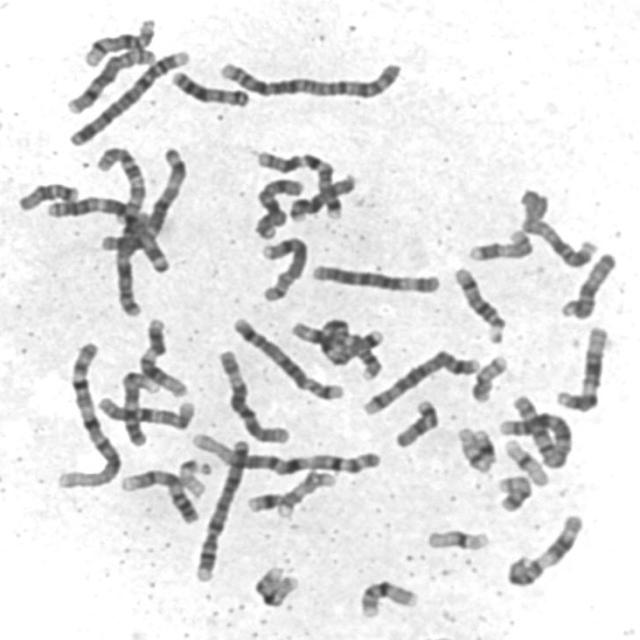A1: (53, 337, 125, 491), (185, 428, 385, 478)
A2: (212, 51, 408, 101), (500, 392, 576, 471)
A3: (95, 140, 191, 258), (42, 190, 173, 275)
B4: (65, 43, 192, 149), (190, 431, 252, 583)
B5: (228, 312, 346, 403), (358, 343, 482, 418)
C10: (91, 140, 150, 234), (92, 389, 198, 431)
C11: (502, 508, 587, 589), (289, 320, 384, 384)
C12: (552, 320, 614, 413), (134, 312, 192, 399)
C6: (212, 343, 294, 445), (308, 258, 445, 296)
C7: (252, 144, 347, 220), (318, 316, 383, 367)
C8: (63, 42, 159, 116), (255, 230, 312, 304)
C9: (117, 464, 203, 526), (116, 366, 160, 448)
D13: (167, 64, 254, 109), (288, 173, 358, 223)
D14: (448, 261, 509, 345), (79, 12, 160, 68)
D15: (516, 212, 602, 269), (556, 247, 622, 321)
E16: (355, 574, 422, 621), (250, 560, 304, 609)
E17: (273, 465, 339, 519), (463, 224, 537, 263)
E18: (390, 393, 443, 449), (13, 176, 82, 212)
F19: (499, 433, 554, 487), (421, 522, 494, 553)
F20: (468, 349, 512, 404), (493, 469, 536, 514)
G21: (243, 486, 289, 514), (472, 426, 498, 464)
G22: (174, 452, 213, 500), (456, 427, 492, 471)
X: (250, 173, 306, 240)
Y: (514, 183, 552, 224)
